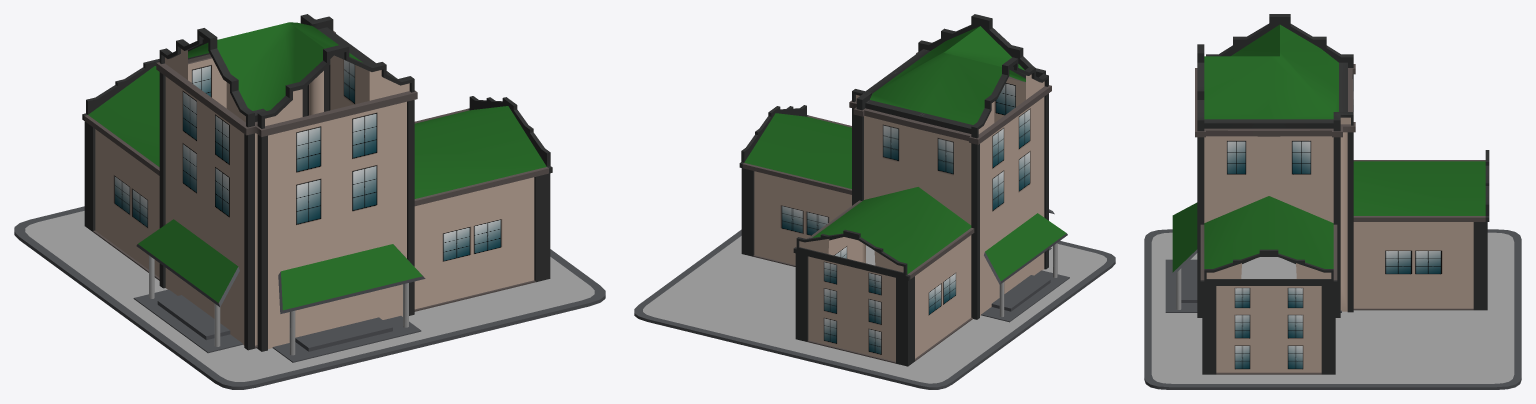
Rendered from Cartel_QG.fbx.
3 views of the same model, side by side, from view 1: azimuth 30°, elevation 25°; view 2: azimuth 150°, elevation 25°; view 3: azimuth 270°, elevation 25° (orthographic). The views are drawn at different scales.
Parts seen in each view (by area): view 1: Cartel_QG; view 2: Cartel_QG; view 3: Cartel_QG.
Part boxes in pixels (left/top/right/bottom): Cartel_QG: left=14, top=14, right=605, bottom=389; Cartel_QG: left=634, top=14, right=1115, bottom=389; Cartel_QG: left=1144, top=14, right=1521, bottom=389.
Size of the model in its own units: 91.56 by 65.14 by 92.62.
